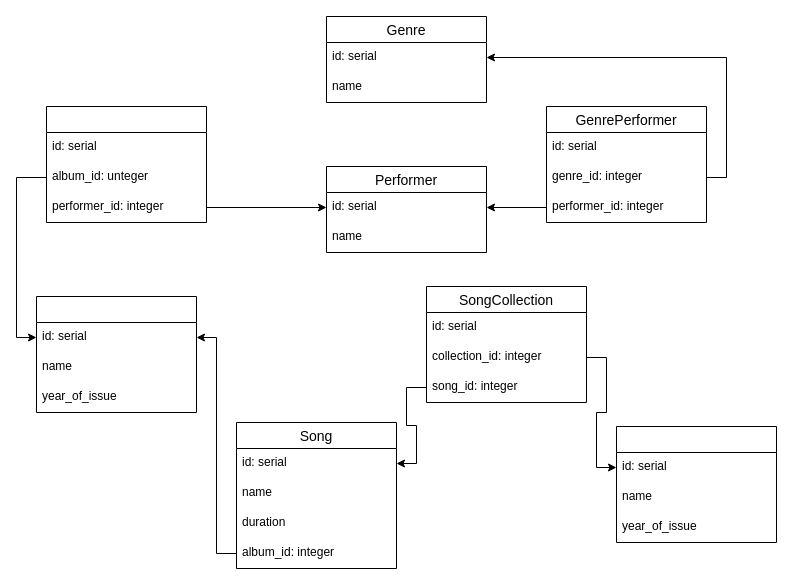
The diagram is 793 pixels wide and 585 high, and some of its shapes have lost their labels. Each missing label, with the box of its shape:
Album: (36, 296, 196, 412)
AlbumPerformer: (46, 106, 206, 222)
Collection: (616, 426, 776, 542)
